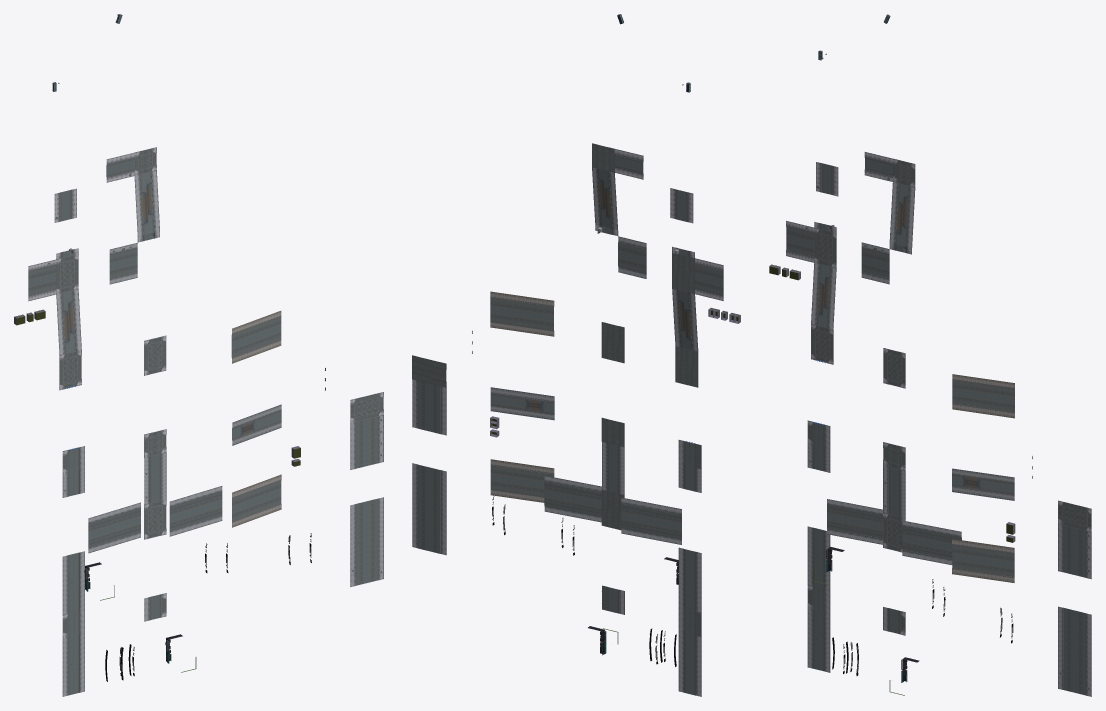
Rendered from industne_industne__part_06.obj.
3 renders of one model, left to right at view 1: azimuth 30°, elevation 25°; view 2: azimuth 150°, elevation 25°; view 3: azimuth 330°, elevation 25°, orthographic. The views are drawn at different scales.
Parts seen in each view (by area): view 1: industne_industne__part_06; view 2: industne_industne__part_06; view 3: industne_industne__part_06.
Part boxes in pixels (box(x1,y1,x2,y2)): industne_industne__part_06: box(14, 14, 383, 696); industne_industne__part_06: box(412, 14, 740, 696); industne_industne__part_06: box(769, 14, 1091, 696).
Bounding box in the file's own units: 308 × 562 × 55.67.
96 materials, 96 textured.
